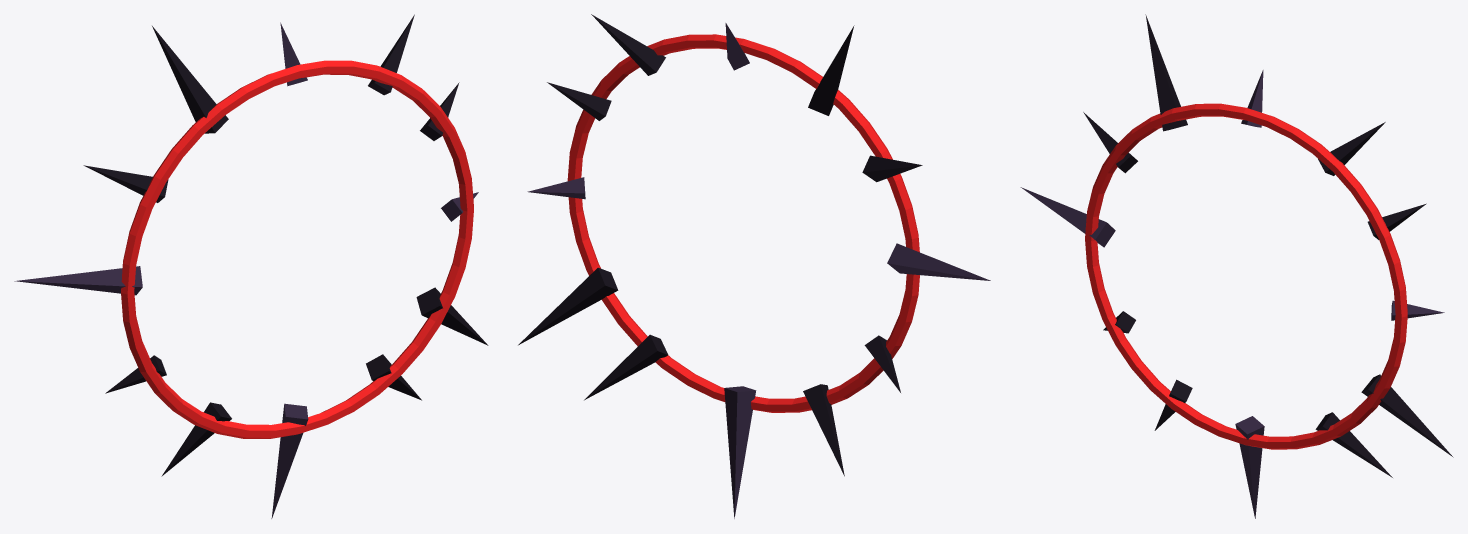
File: BossEyeHalo.obj
3 views of the same model, side by side, from view 1: azimuth 30°, elevation 25°; view 2: azimuth 150°, elevation 25°; view 3: azimuth 330°, elevation 25° (orthographic). The views are drawn at different scales.
Parts seen in each view (by area): view 1: BossEyeHalo; view 2: BossEyeHalo; view 3: BossEyeHalo.
Boxes of the visible parts, <box> form: BossEyeHalo: <box>14,14,488,518</box>; BossEyeHalo: <box>518,14,990,518</box>; BossEyeHalo: <box>1020,14,1453,518</box>.
Size of the model in its own units: 10.76 by 11.35 by 0.9074.
